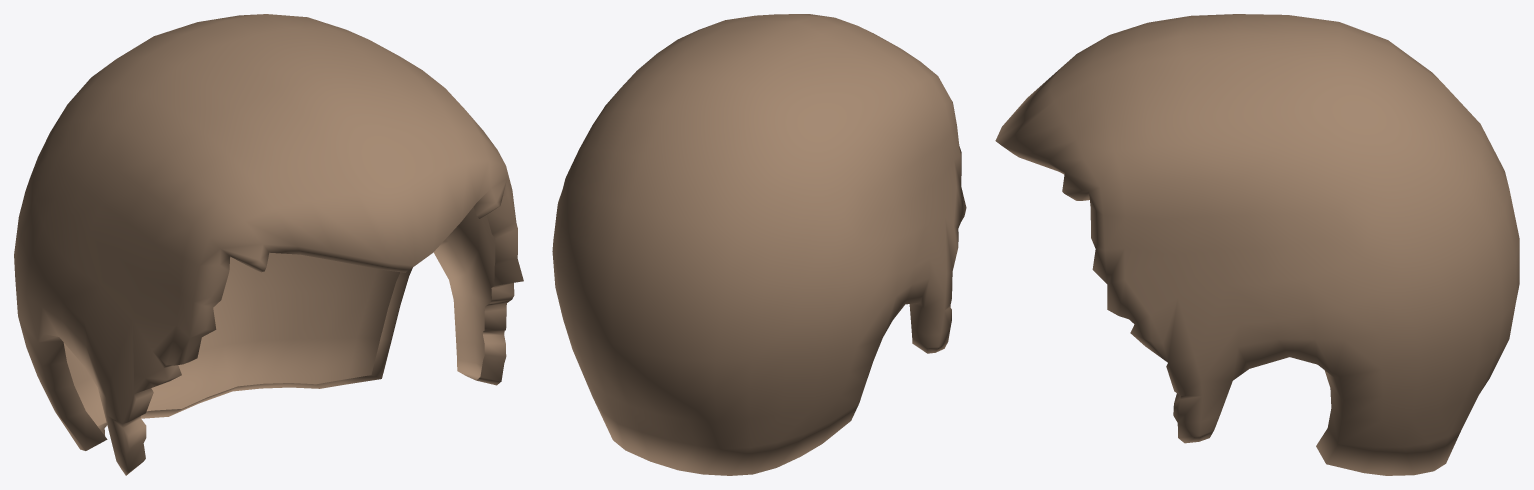
The model's file is quaternius_hair_buzzedfemale.glb.
The picture shows the model from 3 angles, left to right: view 1: azimuth 30°, elevation 25°; view 2: azimuth 150°, elevation 25°; view 3: azimuth 270°, elevation 25°; orthographic projection. The views are drawn at different scales.
Parts seen in each view (by area): view 1: Hair_BuzzedFemale; view 2: Hair_BuzzedFemale; view 3: Hair_BuzzedFemale.
Boxes of the visible parts, x1,y1,x2,y2 form: Hair_BuzzedFemale: [14, 14, 523, 475]; Hair_BuzzedFemale: [552, 14, 966, 475]; Hair_BuzzedFemale: [995, 14, 1519, 475].
Size of the model in its own units: 0.1587 by 0.1702 by 0.1976.
